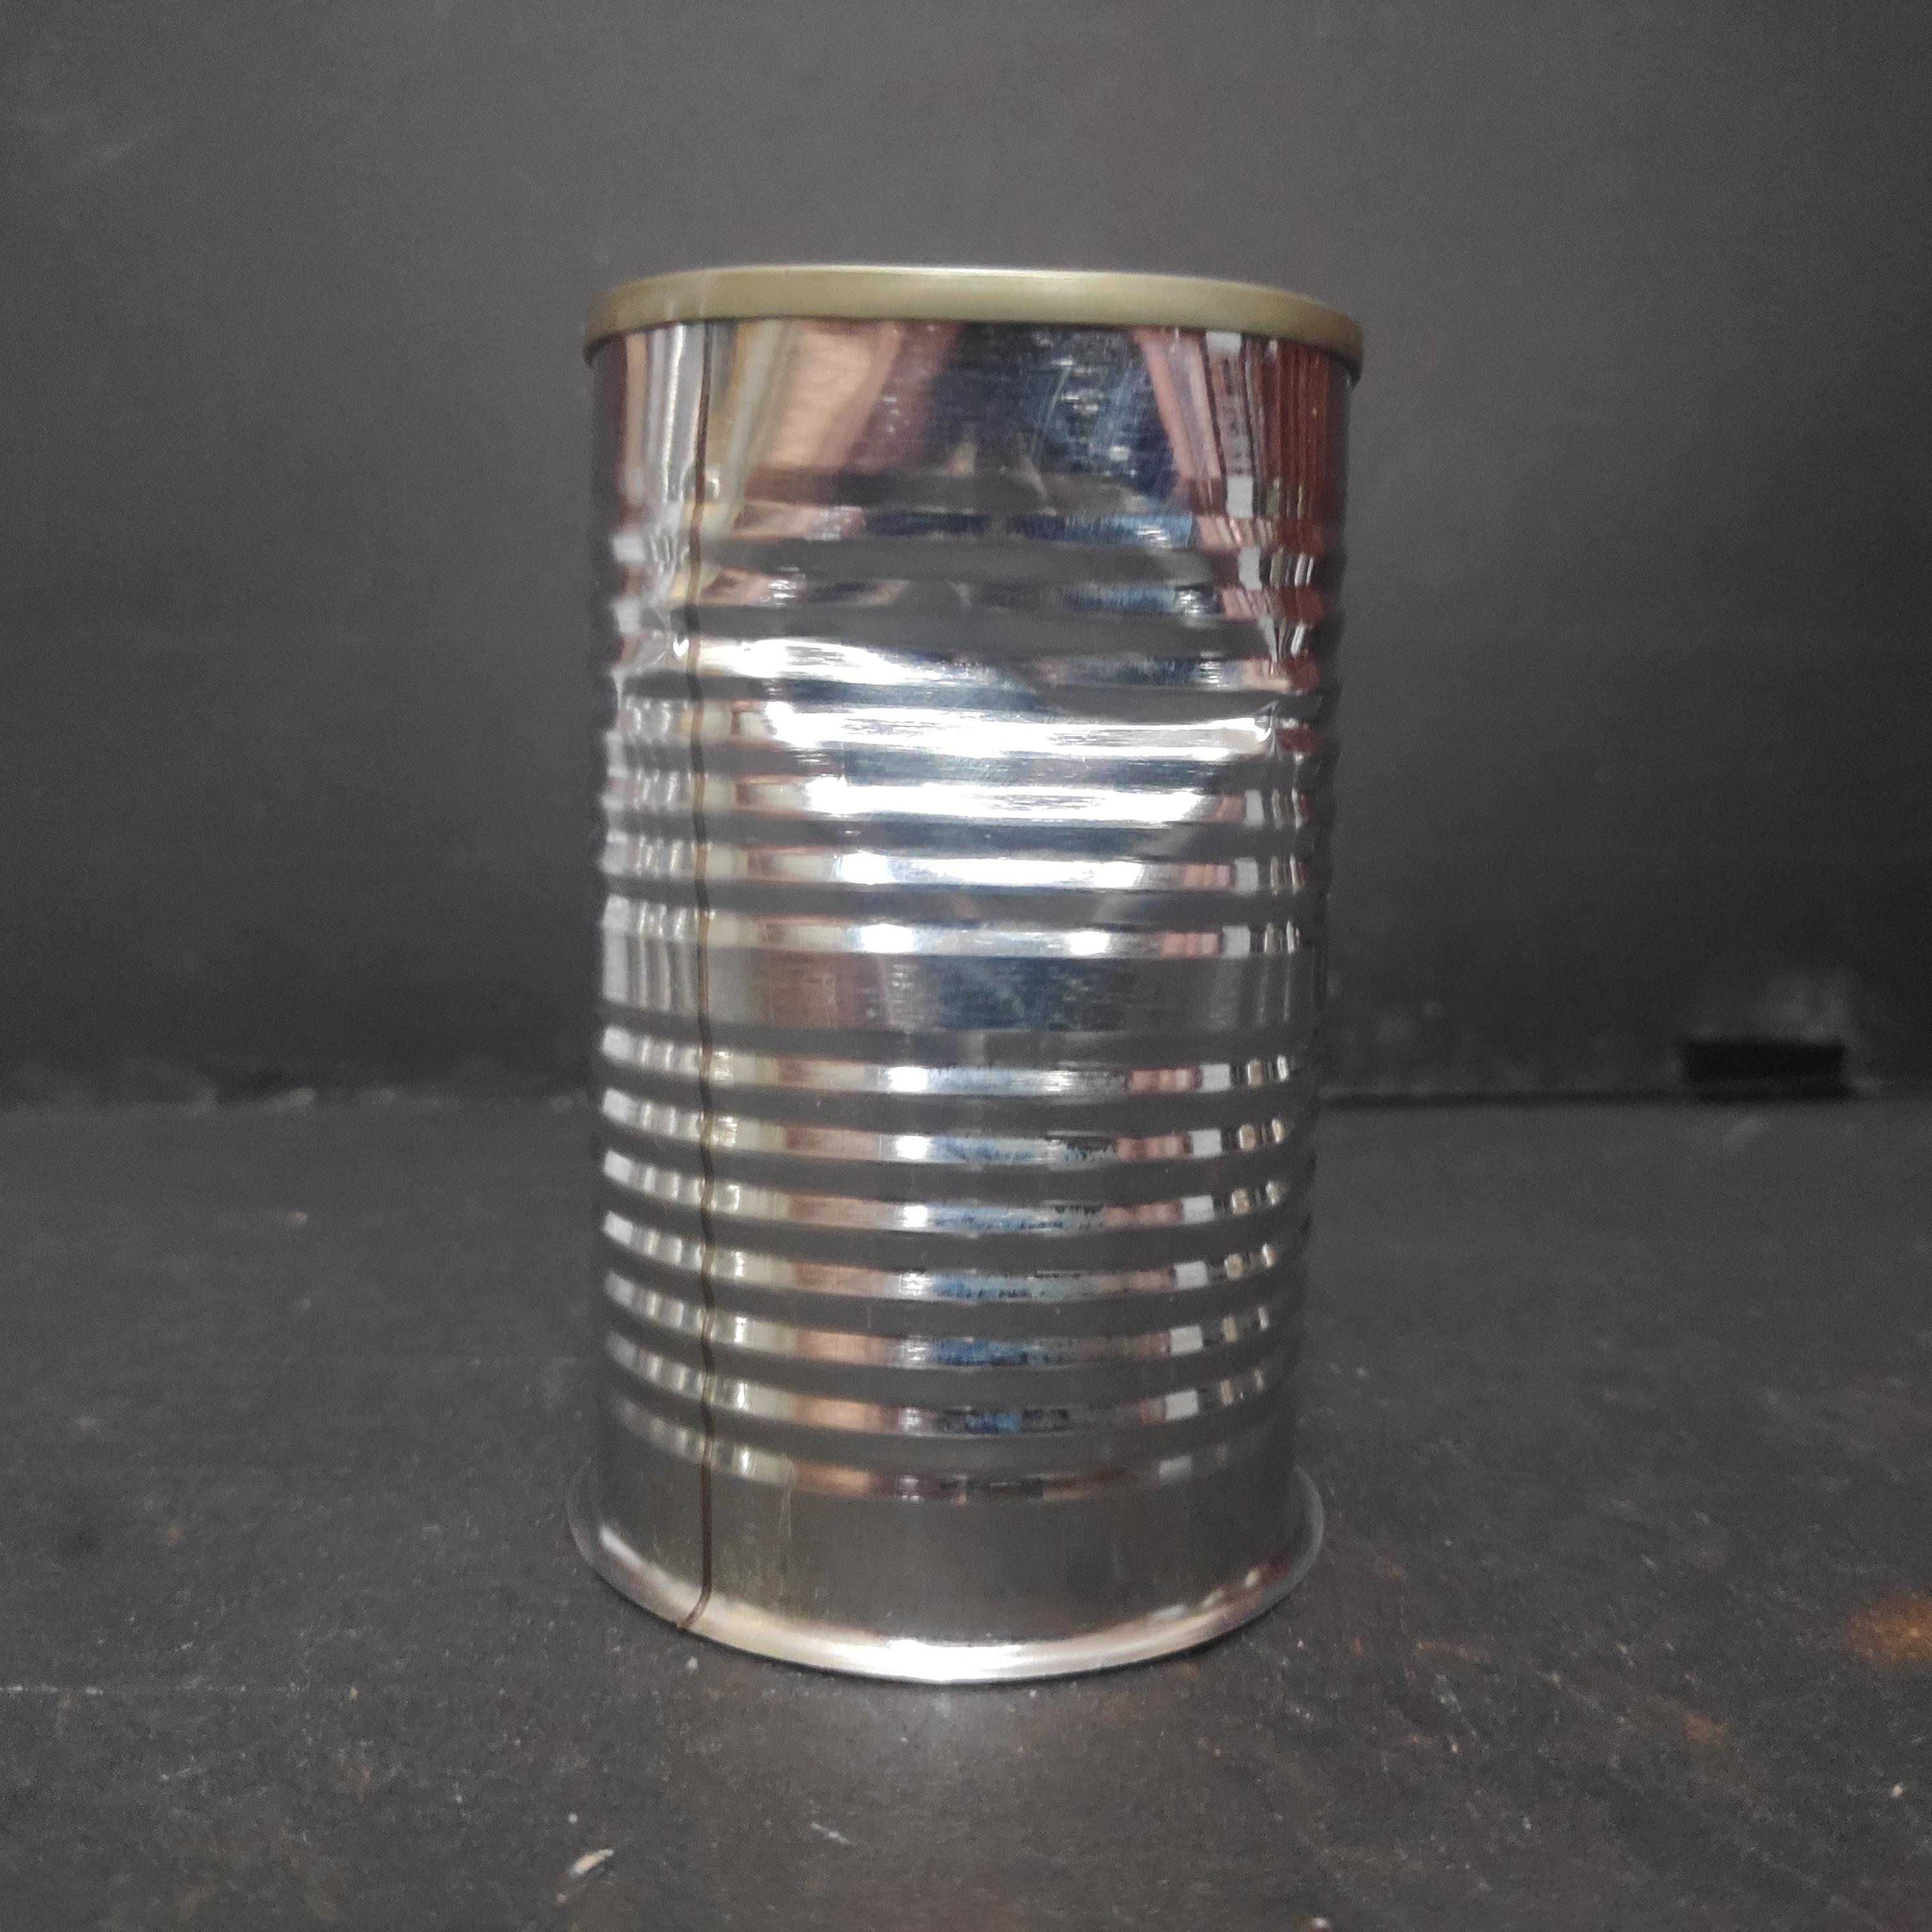Minor Defect: (577, 260, 1366, 1700)
